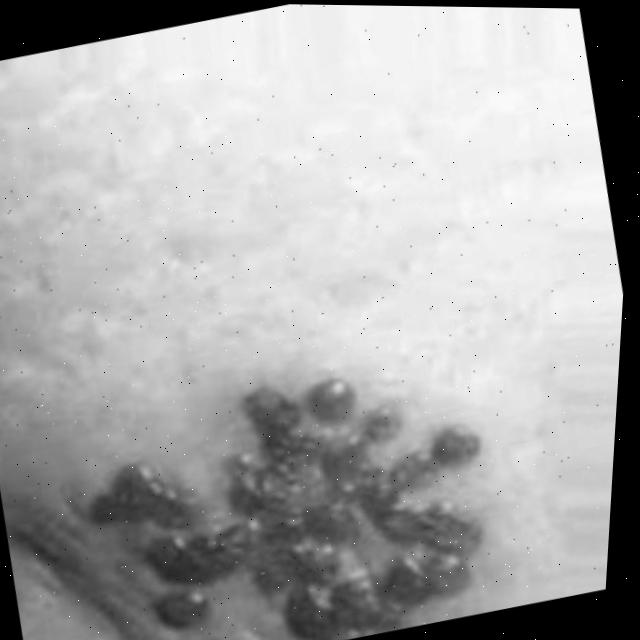Shingles: (66, 330, 530, 640)
